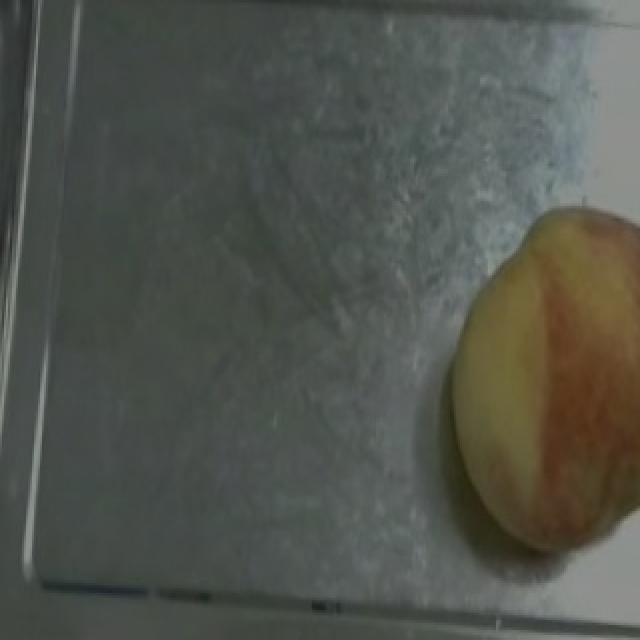Fruit: (430, 270, 640, 566)
